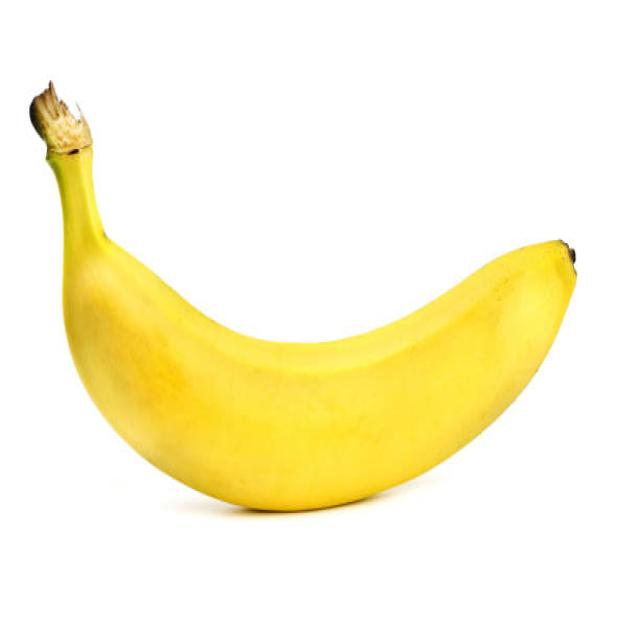Ripe: (53, 140, 581, 514)
